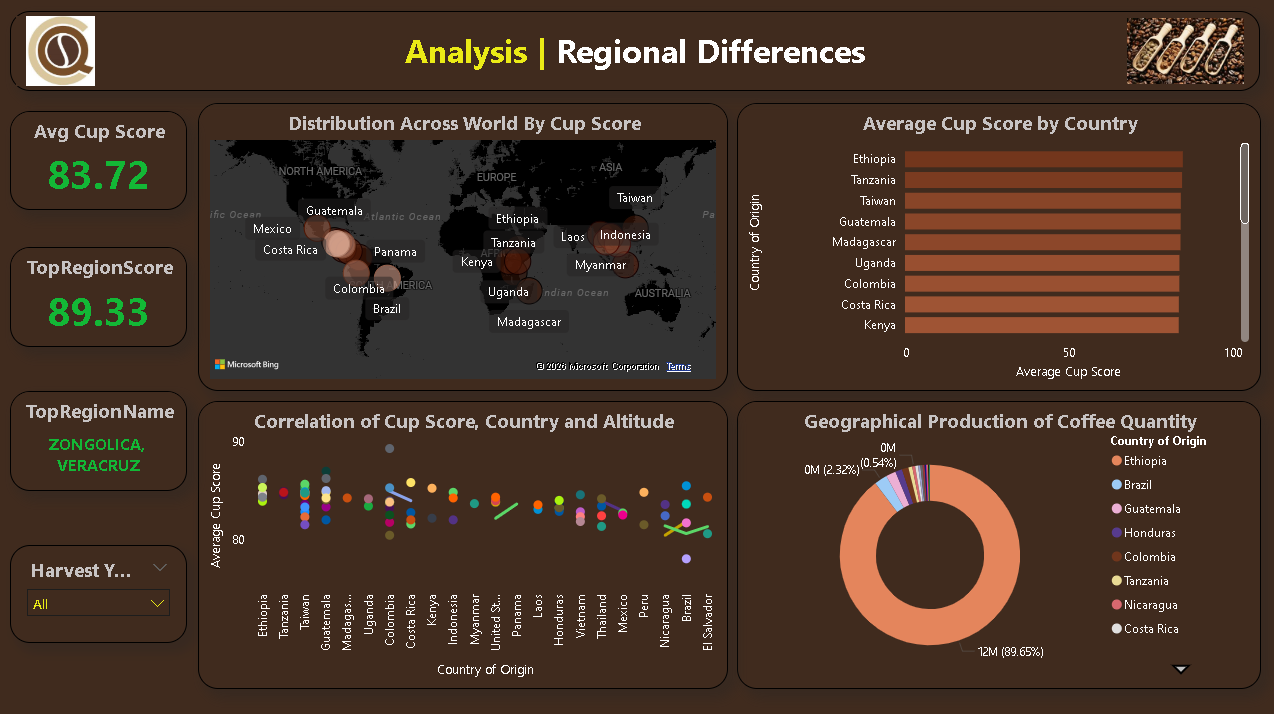

What the dashboard file says about the page in this screenshot:
{"tool":"powerbi","page":{"name":"Regional Analysis","canvas":[1280,720],"ordinal":2},"visuals":[{"type":"map","title":"Distribution Across World By Cup Score","fields":{"Size":["df_arabica_clean.Avg Cup Score"],"Category":["Dim Region.Geography Hierachy.Country of Origin","Dim Region.Geography Hierachy.Region","Dim Region.Geography Hierachy.AvgAltitude"]},"box":[201.6,105.3,530.2,288],"z":0},{"type":"textbox","box":[14.4,12.6,1250.2,80.3],"z":1000,"group":"g1"},{"type":"clusteredBarChart","title":"Average Cup Score by Country","fields":{"Category":["Dim Region.Geography Hierachy.Country of Origin","Dim Region.Geography Hierachy.Region","Dim Region.Geography Hierachy.AvgAltitude"],"Y":["df_arabica_clean.Avg Cup Score"]},"box":[740.8,105.3,523.9,288],"z":1000},{"type":"image","box":[1131.5,18,117,69.3],"z":2000,"group":"g1"},{"type":"card","title":"Avg Cup Score","fields":{"Values":["df_arabica_clean.Avg Cup Score"]},"box":[14.4,112.5,176.4,99.4],"z":2000},{"type":"group","id":"g1","title":"Group 1","box":[14.4,12.6,1250.2,80.3],"z":3000},{"type":"image","box":[20.7,18,89.1,69.3],"z":3000,"group":"g1"},{"type":"donutChart","title":"Geographical Production of Coffee Quantity","fields":{"Y":["Sum(df_arabica_clean.Total Coffee Quantity (Kg))"],"Category":["Dim Region.Country of Origin"]},"box":[740.8,403.3,523.9,288],"z":4000},{"type":"slicer","title":"Geography","fields":{"Values":["df_arabica_clean.Harvest Year"]},"box":[14.4,547.3,176.4,98.1],"z":5000},{"type":"lineChart","title":"Correlation of Cup Score, Country and Altitude","fields":{"Y":["df_arabica_clean.Avg Cup Score"],"Series":["Dim Region.AvgAltitude"],"Category":["Dim Region.Geography Hierachy.Country of Origin"]},"box":[201.6,403.3,530.2,288],"z":6000},{"type":"card","title":"TopRegionName","fields":{"Values":["df_arabica_clean.TopRegionName"]},"box":[14.4,393.4,176.4,99.9],"z":7000},{"type":"card","title":"TopRegionScore","fields":{"Values":["df_arabica_clean.TopRegionScore"]},"box":[14.4,249.3,176.4,99.9],"z":8000}]}

Visuals, with their boxes in screenshot pixels (x1, y1, x2, y2), scaled from the page's 1280x720 canvas onto the 1274x714 screenshot:
"Distribution Across World By Cup Score" map: 201,104,728,390
textbox: 14,12,1259,92
"Average Cup Score by Country" clusteredBarChart: 737,104,1259,390
image: 1126,18,1243,87
"Avg Cup Score" card: 14,112,190,210
"Group 1" group: 14,12,1259,92
image: 21,18,109,87
"Geographical Production of Coffee Quantity" donutChart: 737,400,1259,686
"Geography" slicer: 14,543,190,640
"Correlation of Cup Score, Country and Altitude" lineChart: 201,400,728,686
"TopRegionName" card: 14,390,190,489
"TopRegionScore" card: 14,247,190,346
